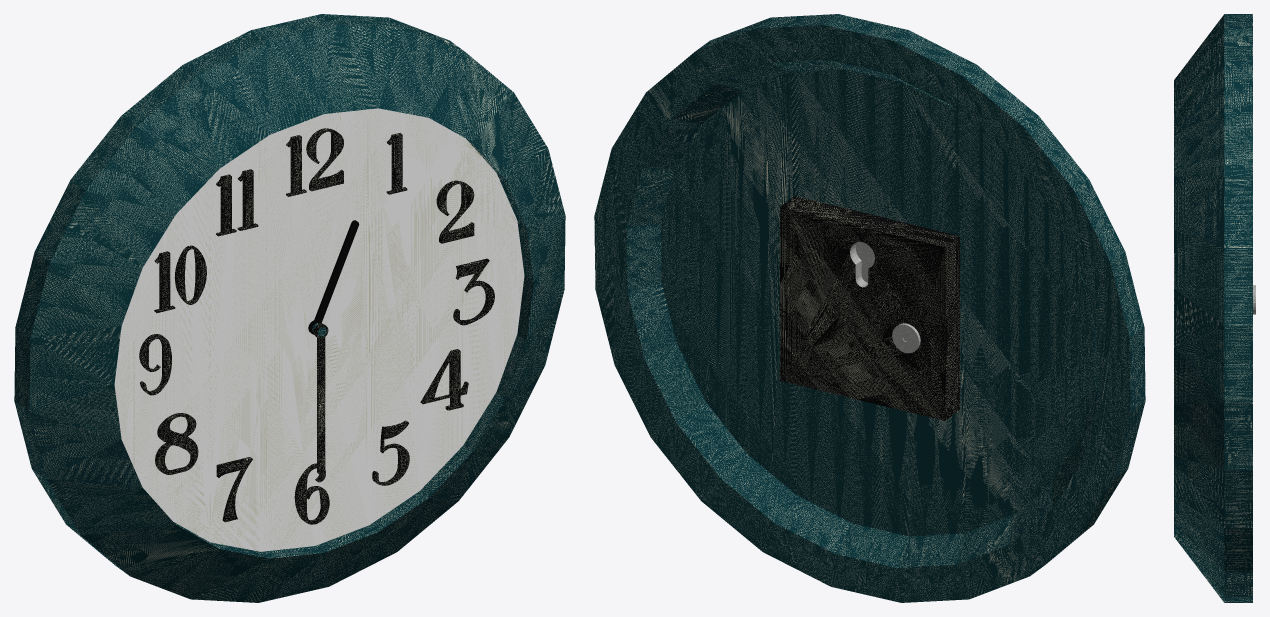
The picture shows the model from 3 angles, left to right: view 1: azimuth 30°, elevation 25°; view 2: azimuth 150°, elevation 25°; view 3: azimuth 270°, elevation 25°; orthographic projection. The views are drawn at different scales.
Visible parts, largest first — view 1: clock; view 2: clock; view 3: clock.
Boxes of the visible parts, x1,y1,x2,y2 form: clock: [14, 14, 565, 602]; clock: [594, 14, 1145, 602]; clock: [1174, 14, 1255, 602].
Size of the model in its own units: 43.83 by 43.83 by 6.13.
